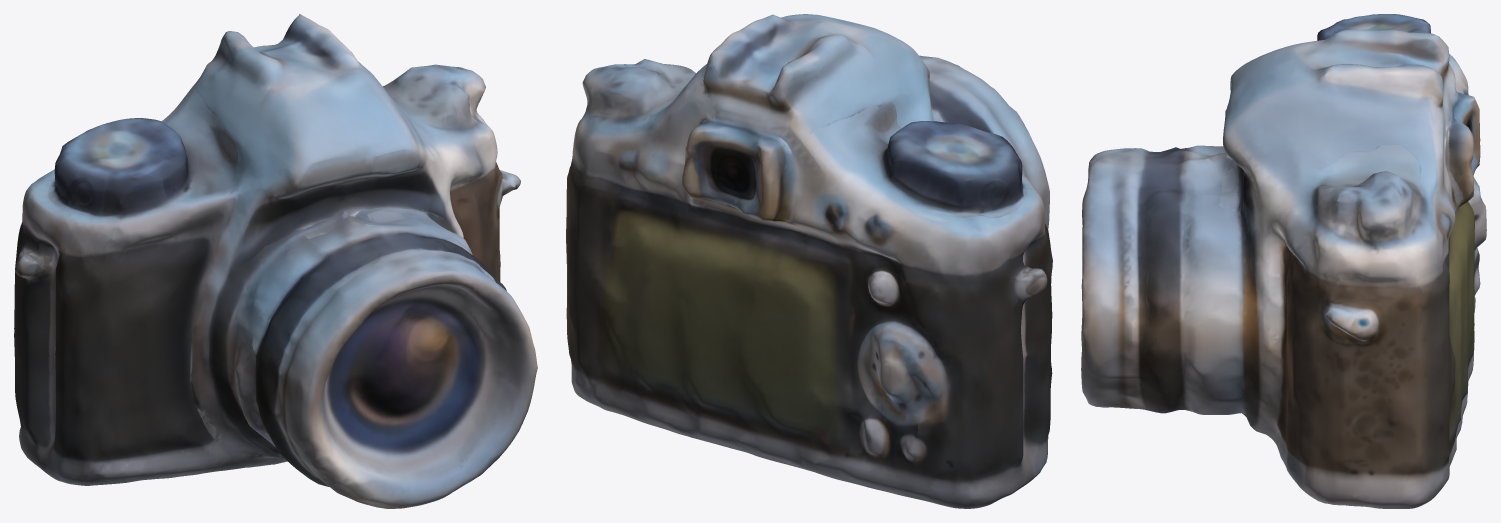
Rendered from ImageProcessingAssets.fbx.
The picture shows the model from 3 angles, left to right: view 1: azimuth 30°, elevation 25°; view 2: azimuth 150°, elevation 25°; view 3: azimuth 270°, elevation 25°; orthographic projection. The views are drawn at different scales.
Visible parts, largest first — view 1: Mesh_0; view 2: Mesh_0; view 3: Mesh_0.
Boxes of the visible parts, left/top/right/bottom form: Mesh_0: left=14, top=14, right=537, bottom=508; Mesh_0: left=566, top=14, right=1052, bottom=508; Mesh_0: left=1081, top=14, right=1486, bottom=508.
Size of the model in its own units: 120 by 93.41 by 89.11.
1 material, 1 textured.
